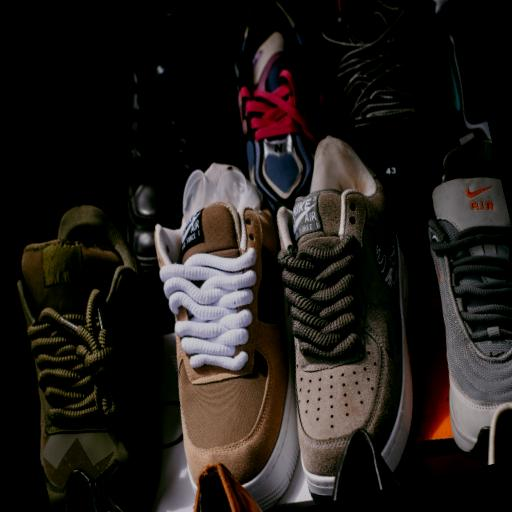shoe: (277, 136, 413, 503), (156, 164, 299, 510), (18, 206, 162, 511), (323, 0, 444, 235), (121, 11, 218, 285), (429, 134, 511, 456), (234, 1, 328, 213), (252, 0, 353, 140), (434, 0, 491, 140), (332, 430, 400, 500), (194, 464, 262, 511), (66, 470, 122, 511), (488, 403, 511, 464), (337, 0, 348, 11)
